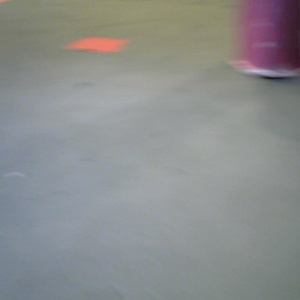right: (220, 1, 298, 90)
